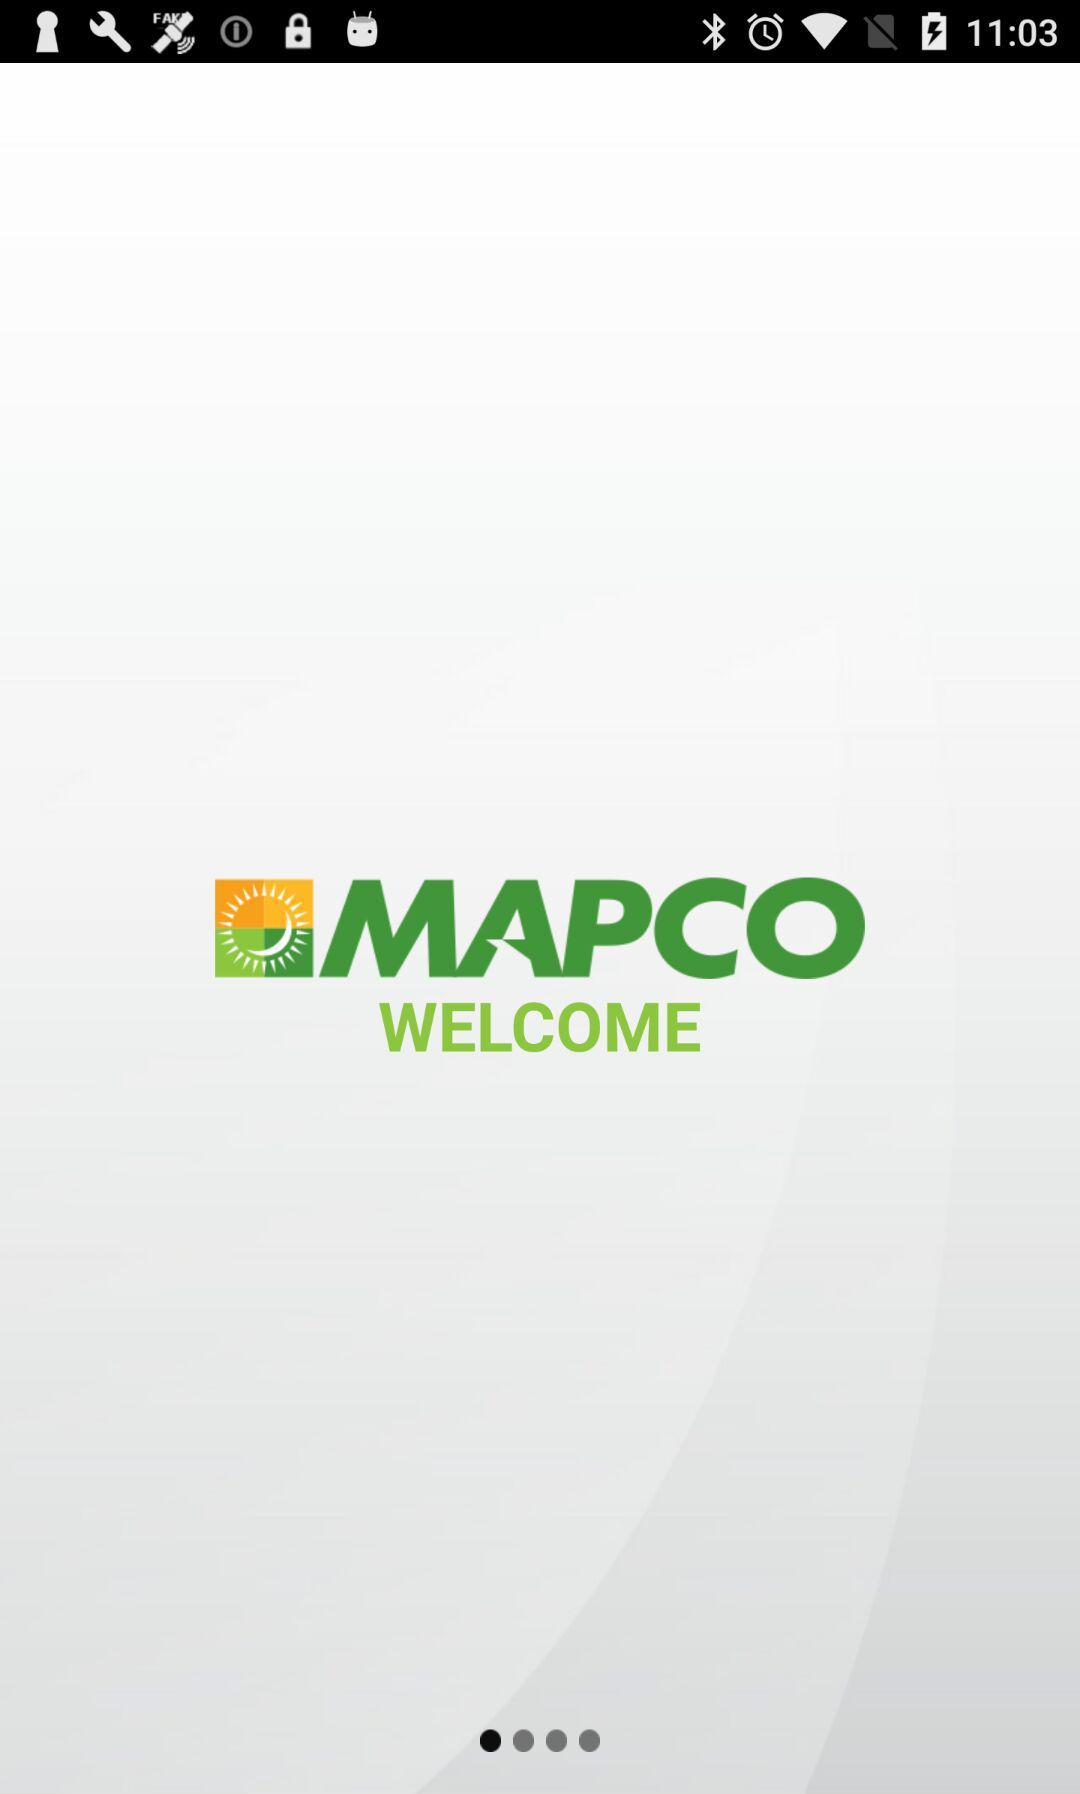Image: (211, 873, 869, 982)
PageIndicator: (478, 1727, 602, 1754)
Text: (378, 1001, 705, 1055)
UpperTaskBar: (1, 1, 1080, 64)
